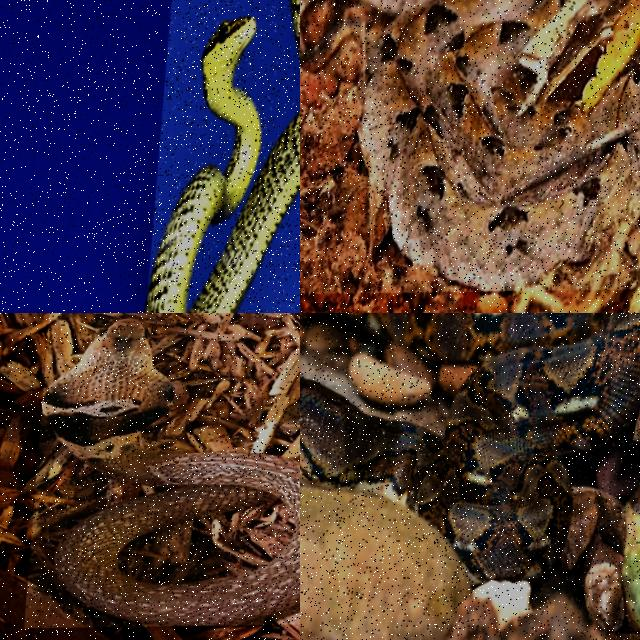Calloselasma rhodostoma: (352, 0, 639, 292)
Chrysopelea ornata: (145, 18, 299, 312)
Malayopython reticulatus: (300, 313, 639, 582)
Naja kaouthia: (42, 319, 299, 626)
snake: (300, 313, 639, 582), (352, 0, 639, 292), (42, 319, 299, 626), (145, 18, 299, 312)
